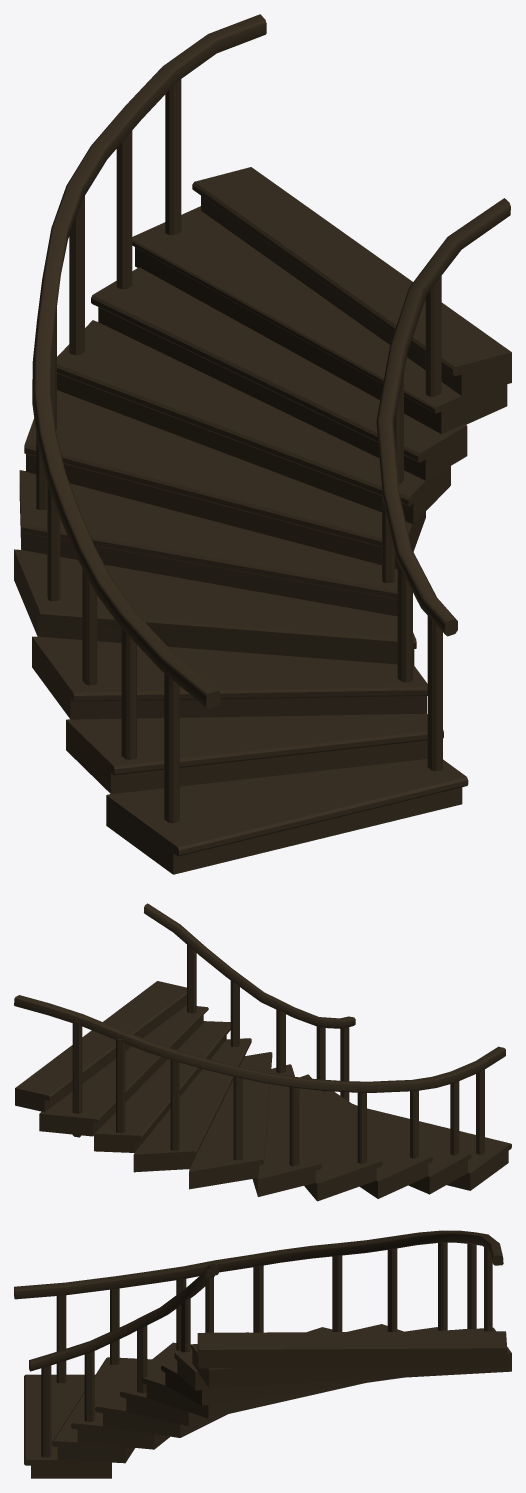
File: Stairs_Foyer.fbx
The picture shows the model from 3 angles, top to bottom: view 1: azimuth 30°, elevation 25°; view 2: azimuth 150°, elevation 25°; view 3: azimuth 270°, elevation 25°; orthographic projection. The views are drawn at different scales.
Parts seen in each view (by area): view 1: pCube59, pCube58, pCube63, pCube36, pCube61, pCube57, pCube60, pCube62, pCube37, pCube64, sweep1, sweep2 (+10 smaller); view 2: pCube37, sweep1, pCube36, pCube59, pCube58, pCube57, pCube61, pCube60, pCube62, sweep2, pCube63, pCube64 (+14 smaller); view 3: pCube37, sweep1, pCube63, pCube36, pCube64, pCube62, pCube58, pCube59, sweep2, pCube61, pCube60, pCube49 (+14 smaller).
Part boxes in pixels (bbox=[...]): pCube59: bbox=[24, 390, 425, 569]; pCube58: bbox=[57, 320, 450, 523]; pCube63: bbox=[106, 759, 468, 874]; pCube36: bbox=[132, 206, 507, 433]; pCube61: bbox=[14, 549, 416, 665]; pCube57: bbox=[91, 267, 467, 480]; pCube60: bbox=[19, 470, 397, 616]; pCube62: bbox=[32, 636, 427, 719]; pCube37: bbox=[192, 167, 511, 395]; pCube64: bbox=[66, 713, 443, 794]; sweep1: bbox=[32, 14, 266, 709]; sweep2: bbox=[376, 198, 510, 636]; pCube37: bbox=[15, 981, 186, 1112]; sweep1: bbox=[14, 995, 505, 1092]; pCube36: bbox=[39, 1005, 208, 1136]; pCube59: bbox=[189, 1052, 272, 1189]; pCube58: bbox=[133, 1038, 251, 1172]; pCube57: bbox=[94, 1021, 230, 1152]; pCube61: bbox=[299, 1074, 382, 1201]; pCube60: bbox=[252, 1064, 321, 1196]; pCube62: bbox=[324, 1091, 432, 1198]; sweep2: bbox=[144, 903, 355, 1028]; pCube63: bbox=[367, 1108, 511, 1190]; pCube64: bbox=[353, 1104, 471, 1194]; pCube37: bbox=[197, 1331, 507, 1368]; sweep1: bbox=[14, 1230, 503, 1299]; pCube63: bbox=[24, 1374, 111, 1478]; pCube36: bbox=[191, 1327, 511, 1388]; pCube64: bbox=[52, 1357, 151, 1463]; pCube62: bbox=[71, 1342, 192, 1449]; pCube58: bbox=[161, 1327, 437, 1405]; pCube59: bbox=[141, 1324, 403, 1418]; sweep2: bbox=[29, 1263, 218, 1371]; pCube61: bbox=[95, 1332, 248, 1437]; pCube60: bbox=[120, 1327, 332, 1426]; pCube49: bbox=[41, 1365, 51, 1457].
Bounding box in the file's own units: 93.1 × 84.4 × 137.
